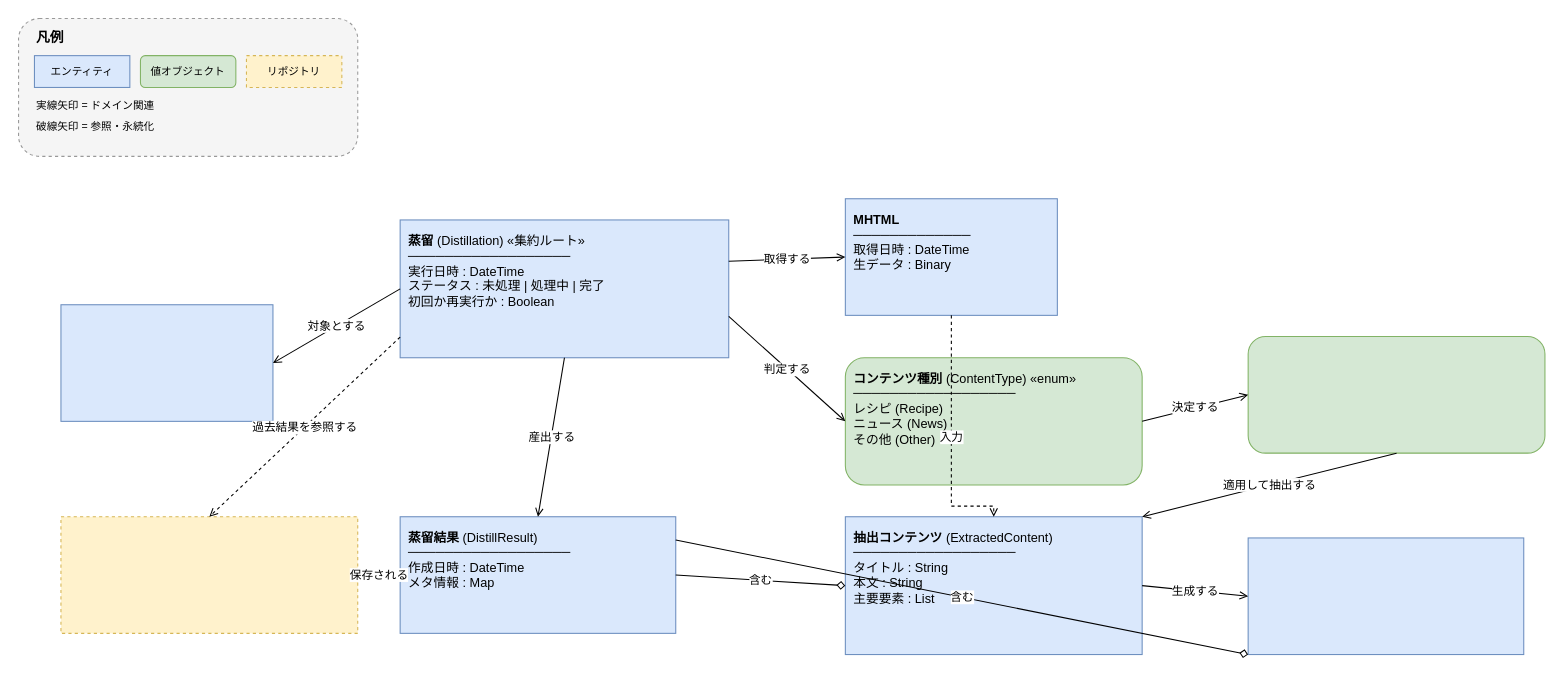
The diagram is 1563 pixels wide and 682 high, and some of its shapes have lost their labels. The centre of each missing label's shape, as x and y in pixels:
"原液 (Site) ───────────── url : URL ドメイン : String" goes at (x=166, y=362).
"抽出ルール (ExtractionRule) «値» ────────────────── 対象種別 : ContentType 抽出対象セレクタ : List" goes at (x=1396, y=394).
"蒸留履歴 (DistillHistory) «リポジトリ» ────────────────── 最新結果を取得(url) 結果を保存(result)" goes at (x=209, y=574).
"蒸留済HTML (DistilledHtml) ────────────────── HTML : String 生成日時 : DateTime" goes at (x=1385, y=596).
